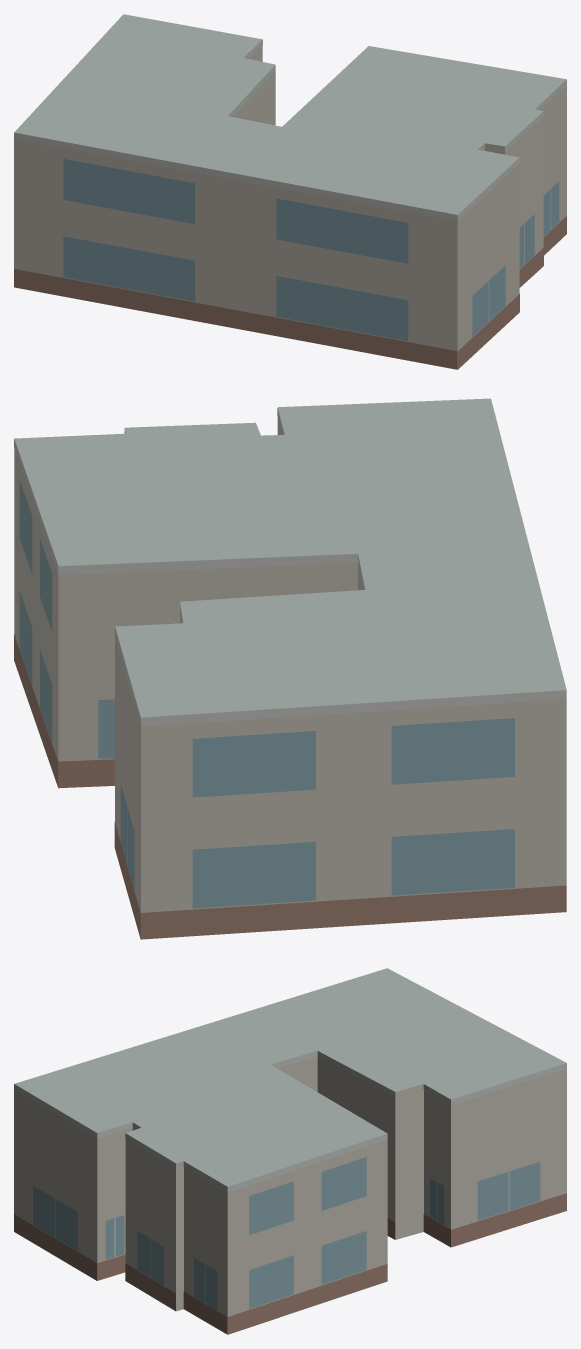
File: survey-upis-32724879.glb
3 views of the same model, one above another, from view 1: azimuth 30°, elevation 25°; view 2: azimuth 150°, elevation 25°; view 3: azimuth 270°, elevation 25° (orthographic). The views are drawn at different scales.
Parts seen in each view (by area): view 1: survey-upis-32724879.tmp; view 2: survey-upis-32724879.tmp; view 3: survey-upis-32724879.tmp.
Part boxes in pixels (bbox=[...]): survey-upis-32724879.tmp: bbox=[14, 14, 566, 369]; survey-upis-32724879.tmp: bbox=[14, 398, 566, 939]; survey-upis-32724879.tmp: bbox=[14, 968, 566, 1334].
Size of the model in its own units: 19.35 by 6.1 by 20.67.
